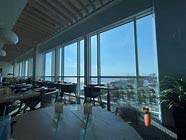copymove: (46, 99, 69, 140)
removal: (163, 27, 186, 45)
spliced: (142, 103, 152, 129)
